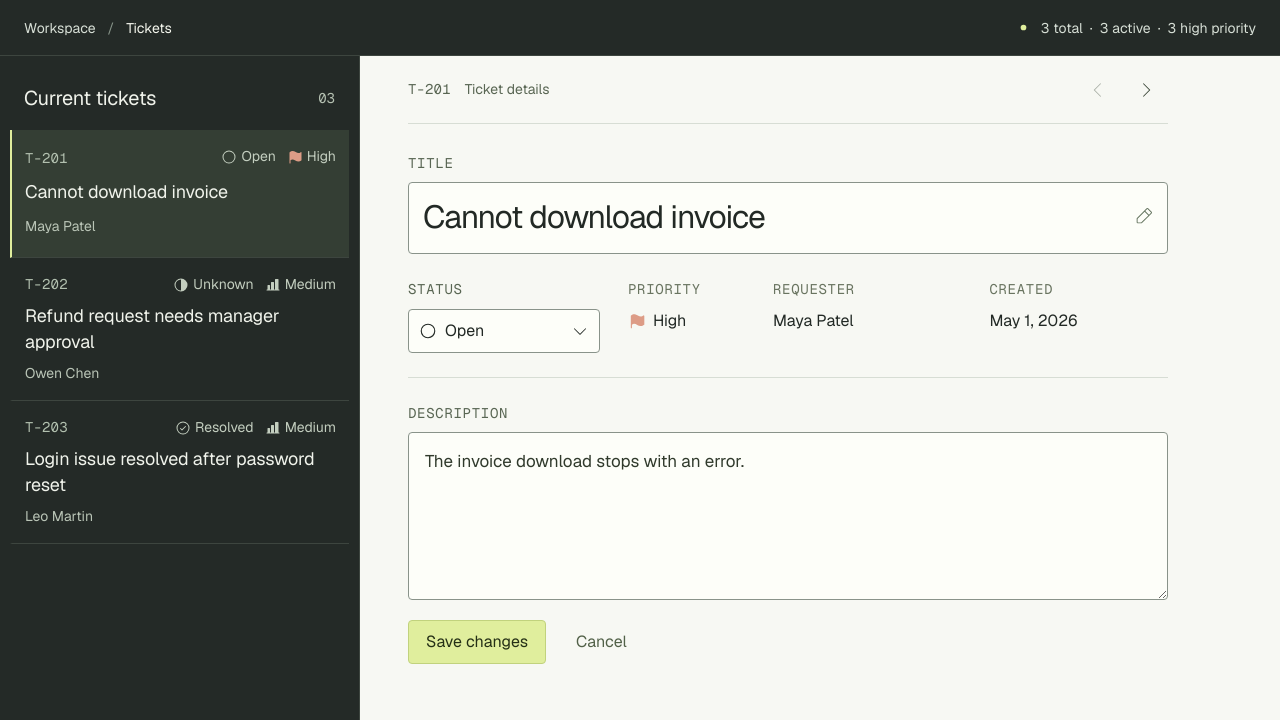
Scenario: App › selects tickets and cancels without saving draft edits
Expected: the number of buttons named "View details for" is 3, left=10, top=130, right=349, bottom=258; left=10, top=258, right=349, bottom=401; left=10, top=401, right=349, bottom=544
Expected: the text box labelled "Description" holds "The invoice download stops with an error.", left=408, top=432, right=1168, bottom=600
Replace the text in the text box labelled "Title" with "Unsaved title" at x=788, y=218, box left=408, top=182, right=1168, bottom=254
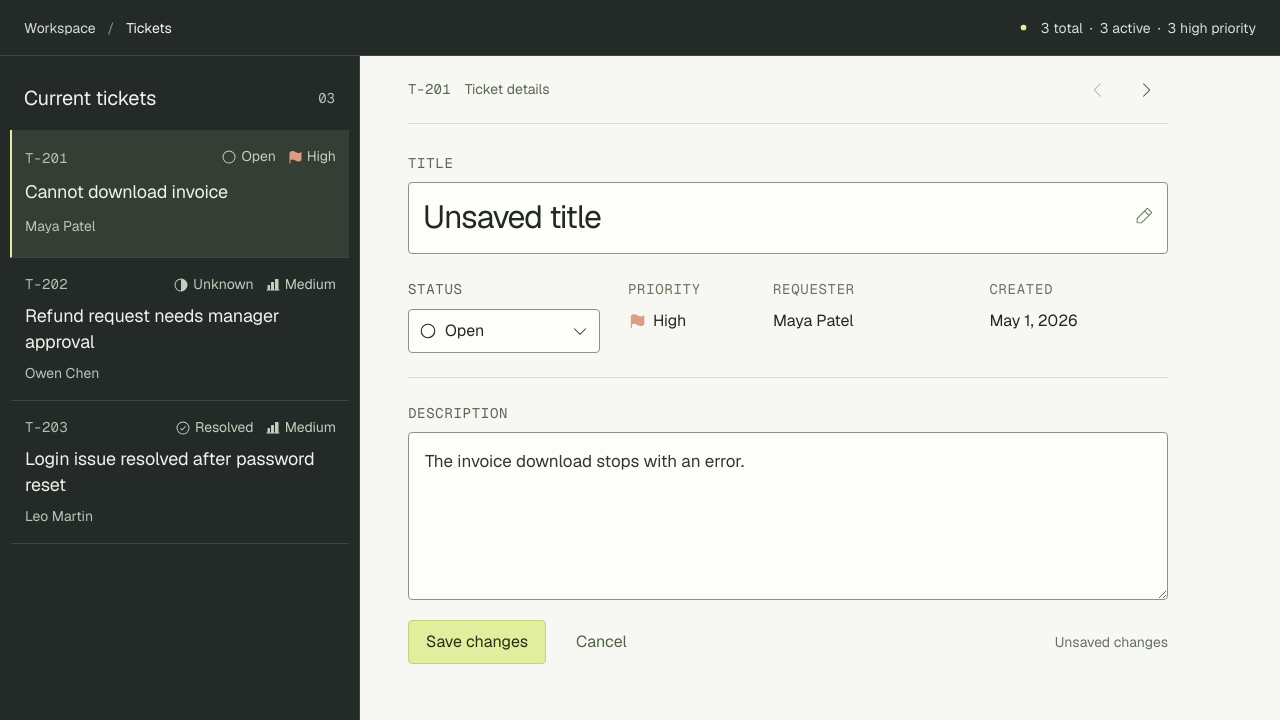
Click the button "Cancel" at x=601, y=642, box left=558, top=620, right=645, bottom=664
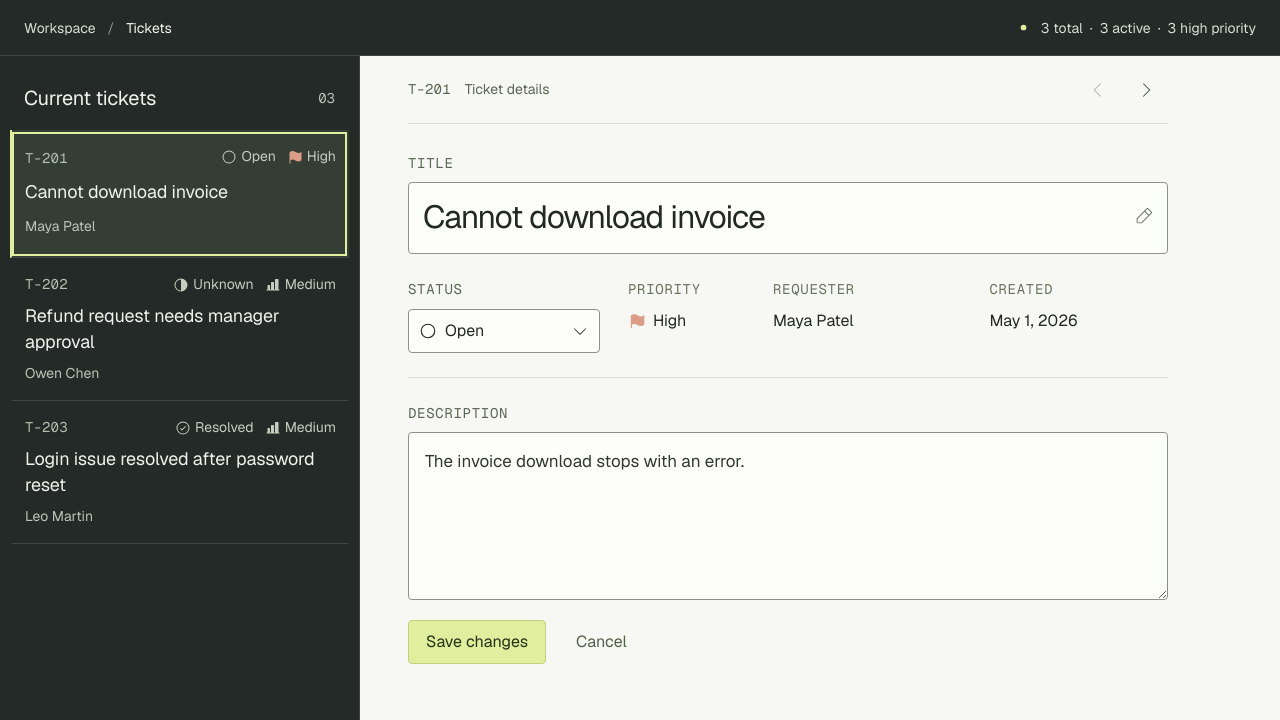
Expected: the text box labelled "Title" holds "Cannot download invoice", left=408, top=182, right=1168, bottom=254
Click the button with aria-label "View details for" at x=180, y=330, box left=10, top=258, right=349, bottom=401
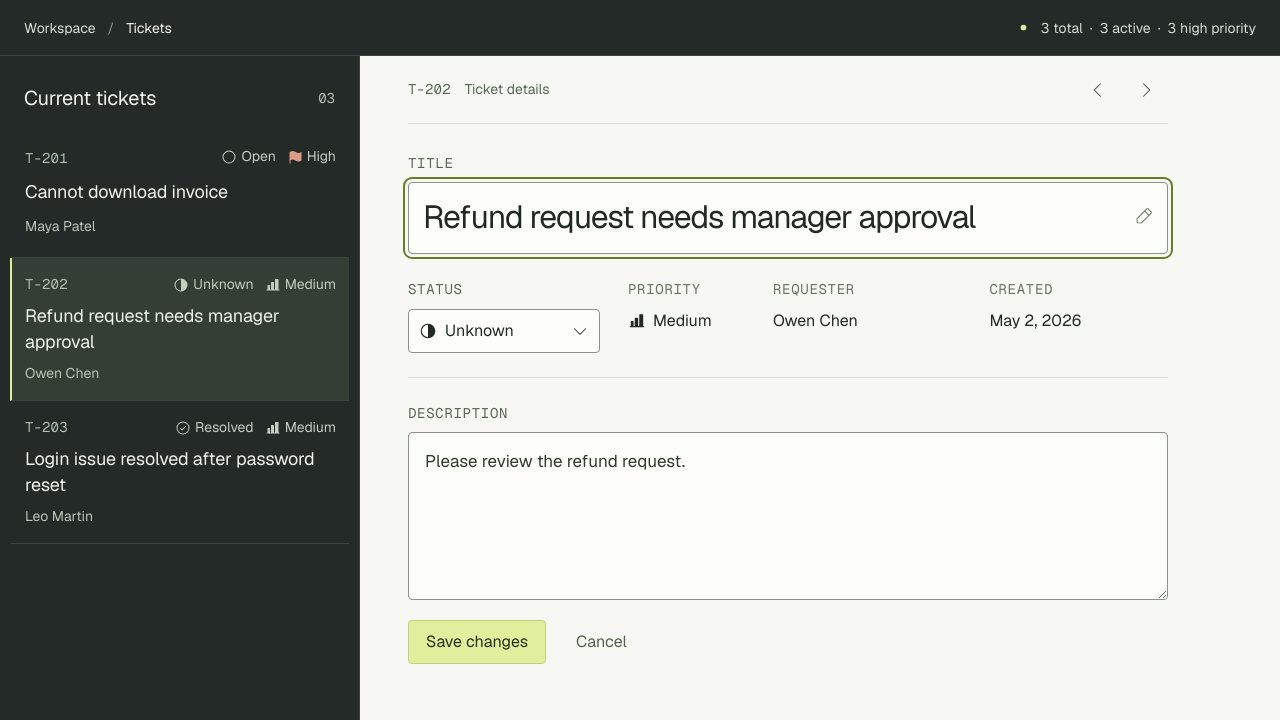
Expected: the number of text boxes labelled "Title" is 1, left=408, top=182, right=1168, bottom=254
Expected: the text box labelled "Description" holds "Please review the refund request.", left=408, top=432, right=1168, bottom=600
Expected: the dropdown labelled "Status" shows "Unknown", left=445, top=310, right=589, bottom=352
